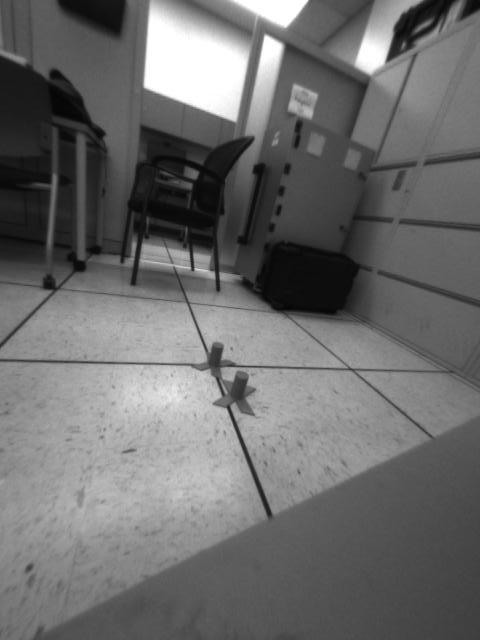X: (211, 372, 260, 418), (192, 340, 237, 378)
